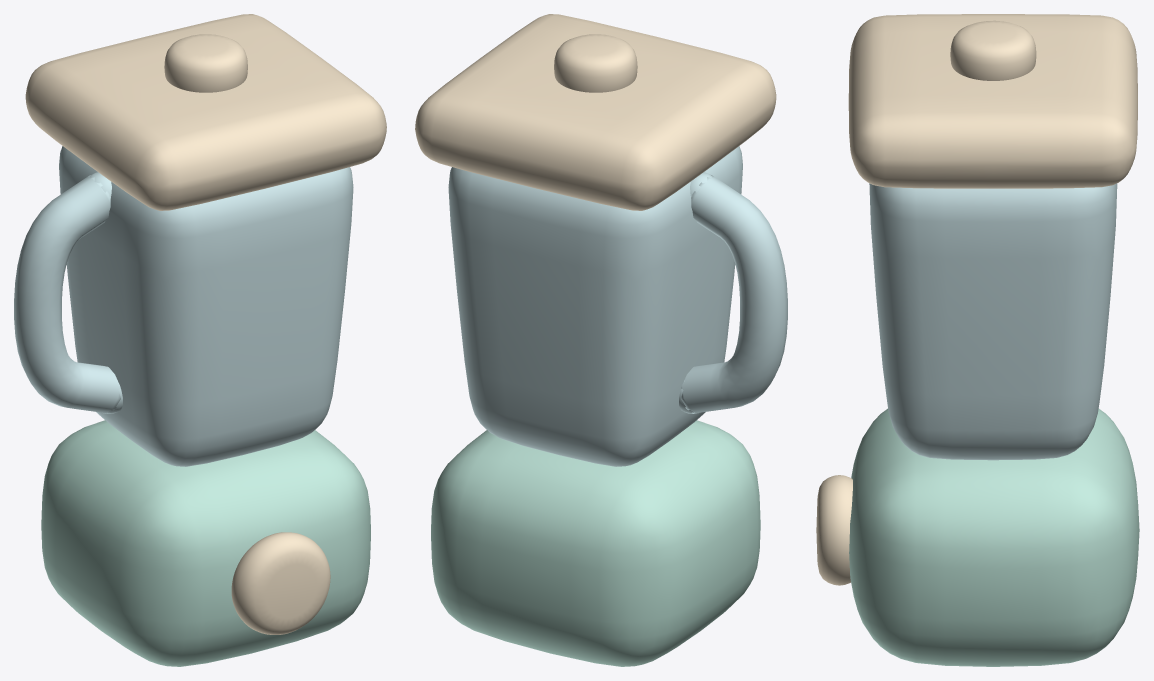
File: blender_a.glb
3 renders of one model, left to right at view 1: azimuth 30°, elevation 25°; view 2: azimuth 150°, elevation 25°; view 3: azimuth 270°, elevation 25°, orthographic. The views are drawn at different scales.
Visible parts, largest first — view 1: body; view 2: body; view 3: body.
Part boxes in pixels (left/top/right/bottom): body: left=14, top=14, right=386, bottom=666; body: left=415, top=14, right=787, bottom=666; body: left=816, top=14, right=1139, bottom=666.
Size of the model in its own units: 0.246 by 0.432 by 0.21.
